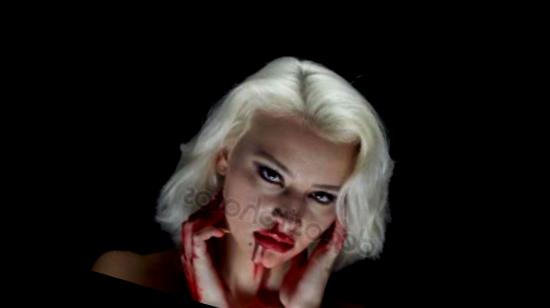Fire: (246, 265, 275, 308), (250, 229, 273, 264), (250, 259, 262, 279)
